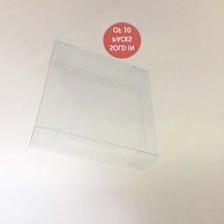plastic_box: (18, 34, 166, 177)
